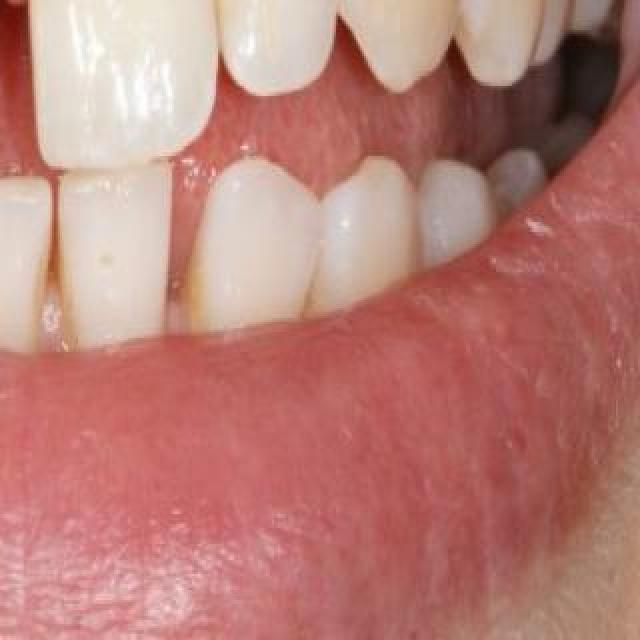spacing: (125, 163, 219, 333), (0, 0, 88, 162), (13, 178, 97, 346)
